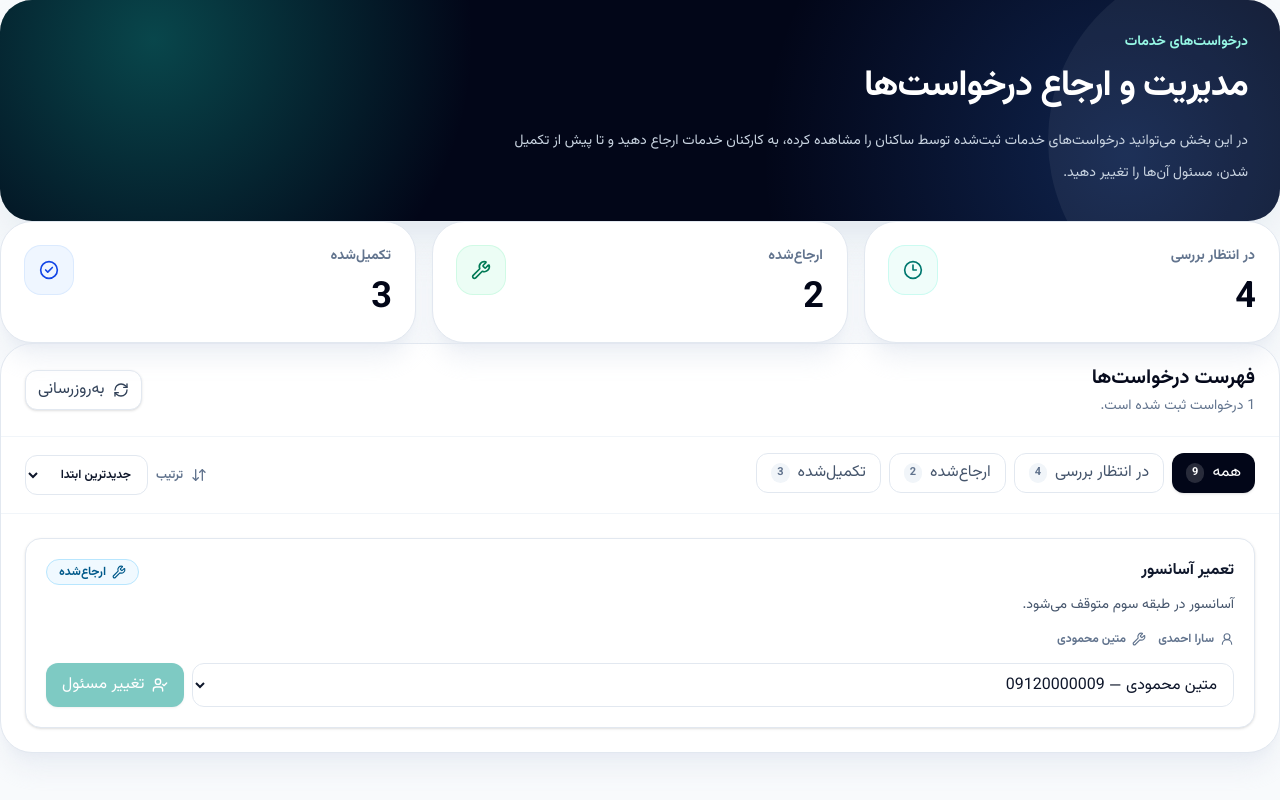
it: ServiceRequestsSection › surfaces a failed reassignment without changing the list
Select "رضا کریمی — 09120000010" in the dropdown named "مسئول درخواست تعمیر آسانسور" at (713, 685), box [192, 663, 1234, 707]
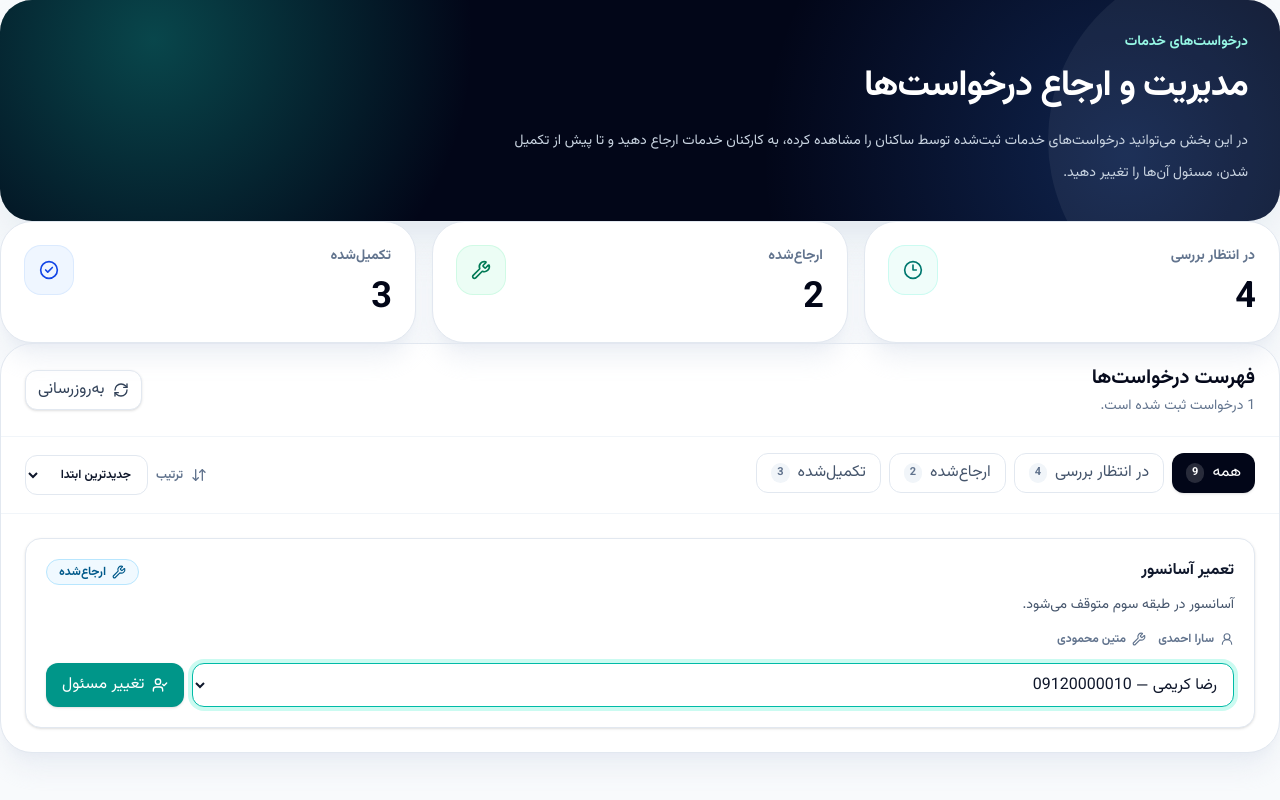
Click the button "تغییر مسئول".
click(115, 685)  # box [46, 663, 184, 707]
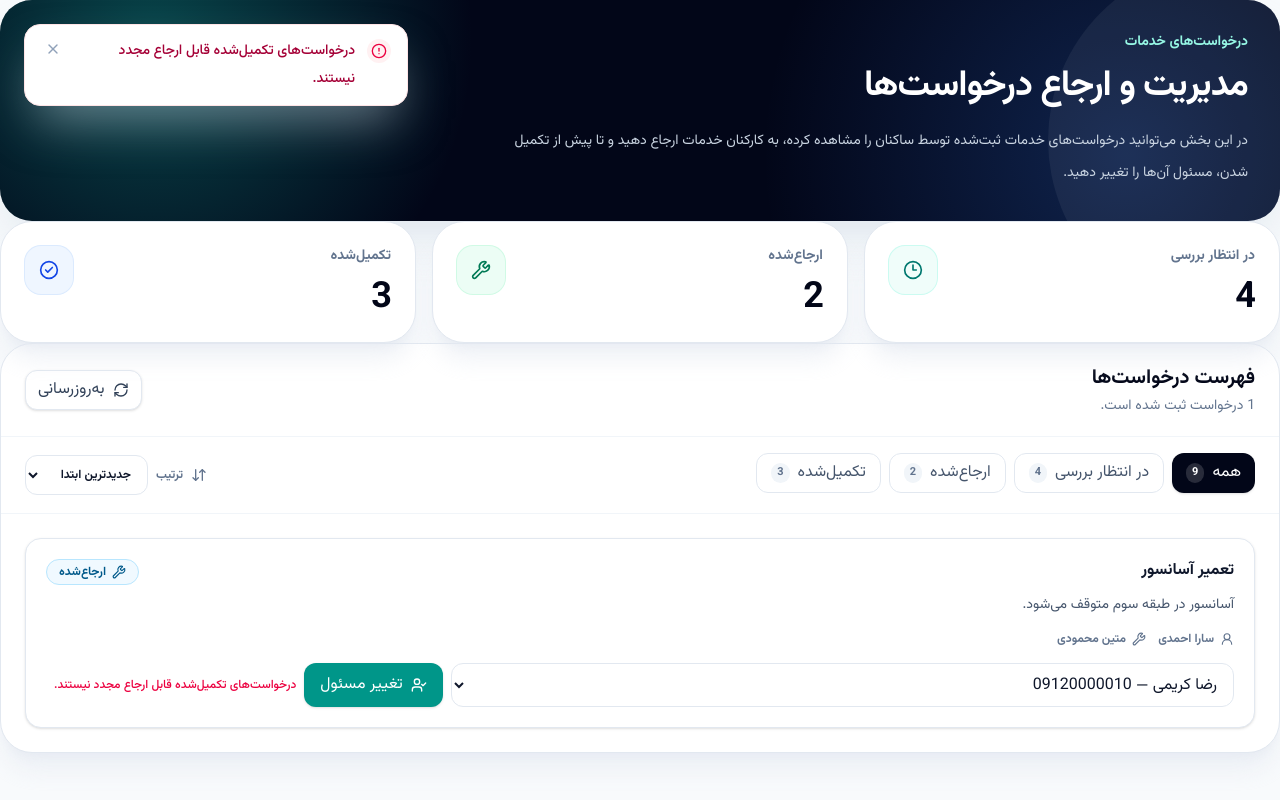
Expected: the text "درخواست‌های تکمیل‌شده قابل ارجاع مجدد نیستند." below "ترتیب" is shown, [54, 676, 296, 694]
